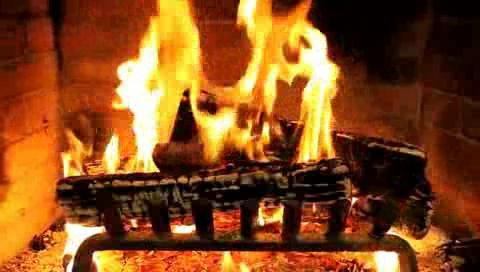fire: (100, 3, 364, 185)
